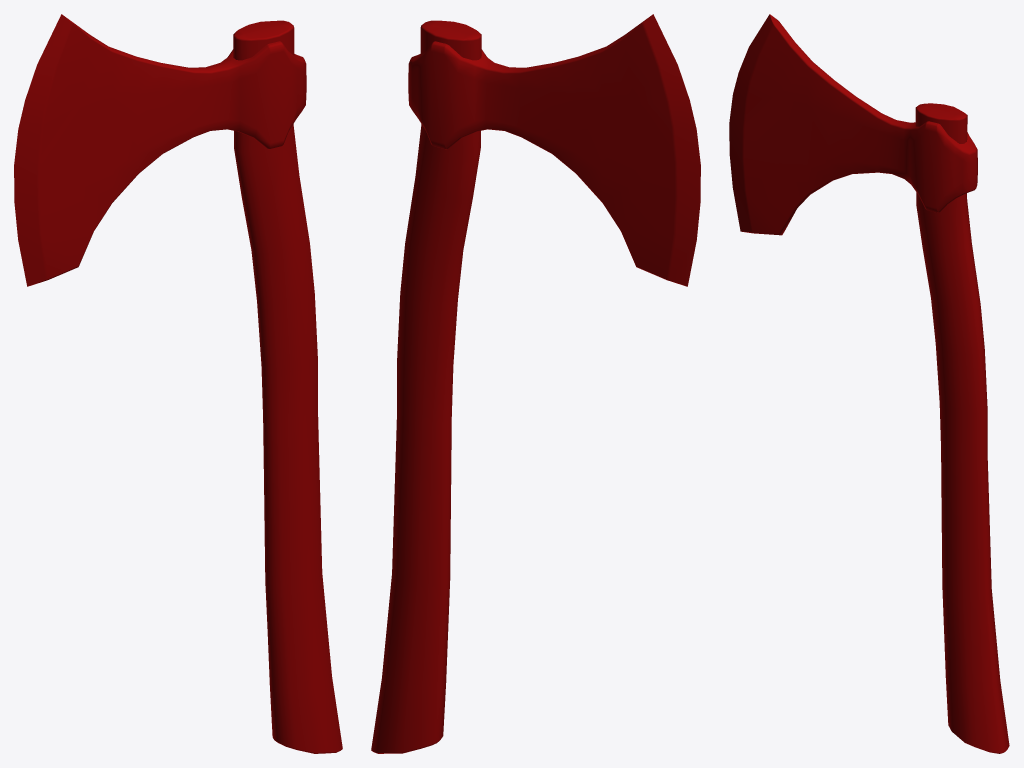
Rendered from SM_Axe.gltf.
3 views of the same model, side by side, from view 1: azimuth 30°, elevation 25°; view 2: azimuth 150°, elevation 25°; view 3: azimuth 330°, elevation 25° (orthographic). The views are drawn at different scales.
Visible parts, largest first — view 1: SM_Axe; view 2: SM_Axe; view 3: SM_Axe.
Part boxes in pixels (x1=…): SM_Axe: x1=14, y1=14, x2=342, y2=753; SM_Axe: x1=371, y1=14, x2=700, y2=753; SM_Axe: x1=729, y1=14, x2=1009, y2=753.
Size of the model in its own units: 0.2139 by 0.5028 by 0.0298.
